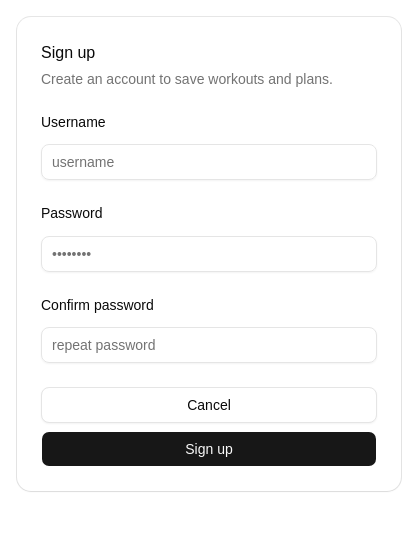
Test: SignUpForm › shows a validation error when passwords do not match
In the field labelled "Username": (209, 162) [41,144,377,180], type "alice"
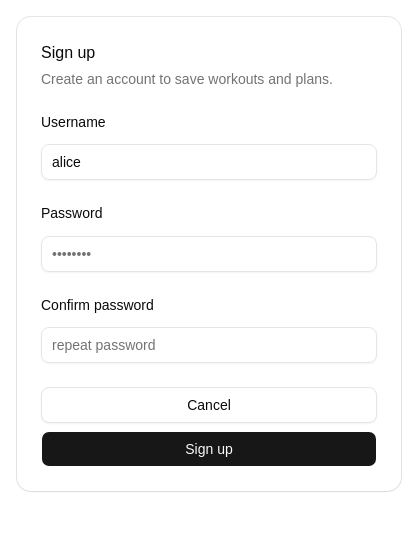
In the password field labelled "Password": (209, 254) [41,236,377,272], type "password1"
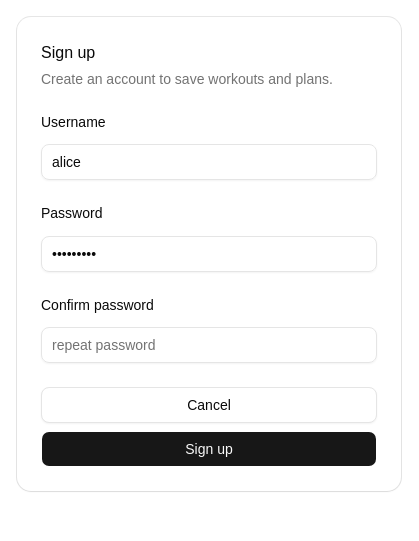
In the password field labelled "Confirm password": (209, 345) [41,327,377,363], type "different"
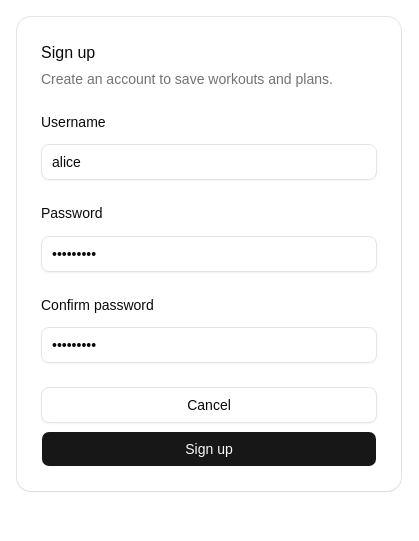
Submit the form with id "signup-form", box [41,113,377,363]
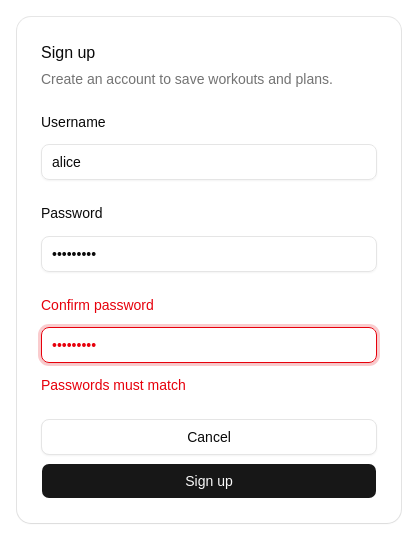
Expected: the text "Passwords must match" is shown, [41,377,186,393]
